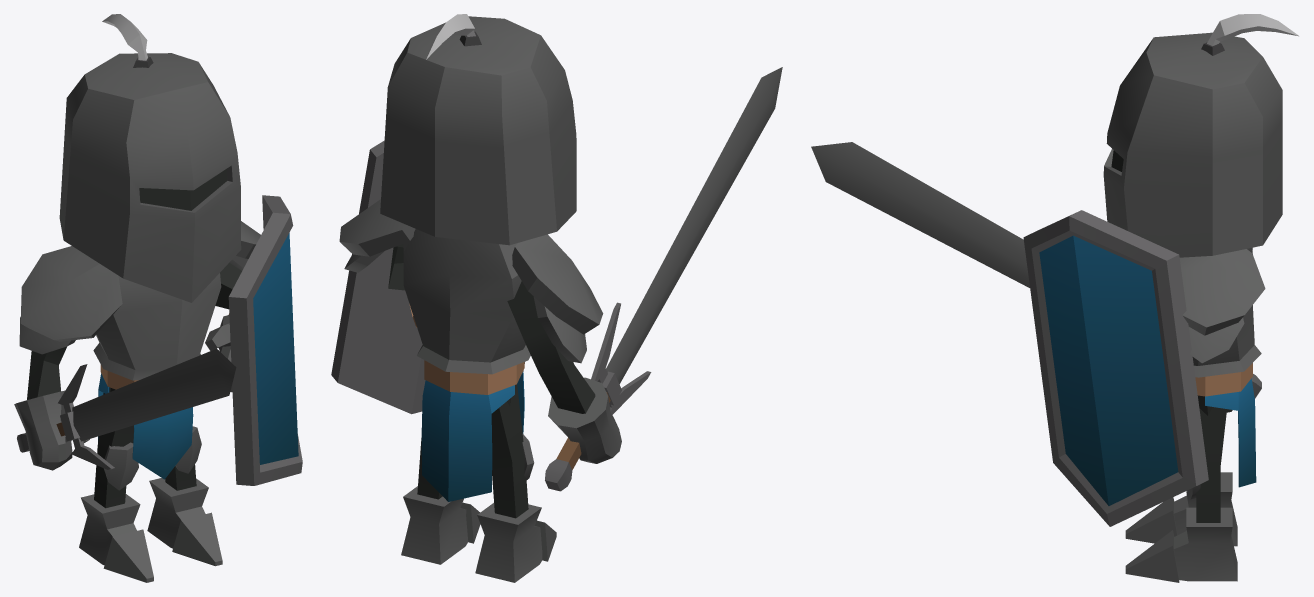
Rendered from Warrior_11.fbx.
The picture shows the model from 3 angles, left to right: view 1: azimuth 30°, elevation 25°; view 2: azimuth 150°, elevation 25°; view 3: azimuth 270°, elevation 25°; orthographic projection. The views are drawn at different scales.
Visible parts, largest first — view 1: Warrior_11; view 2: Warrior_11; view 3: Warrior_11.
Part boxes in pixels (x1=…): Warrior_11: x1=14, y1=14, x2=302, y2=582; Warrior_11: x1=331, y1=14, x2=782, y2=582; Warrior_11: x1=811, y1=14, x2=1299, y2=582.
Size of the model in its own units: 69.93 by 131 by 107.
